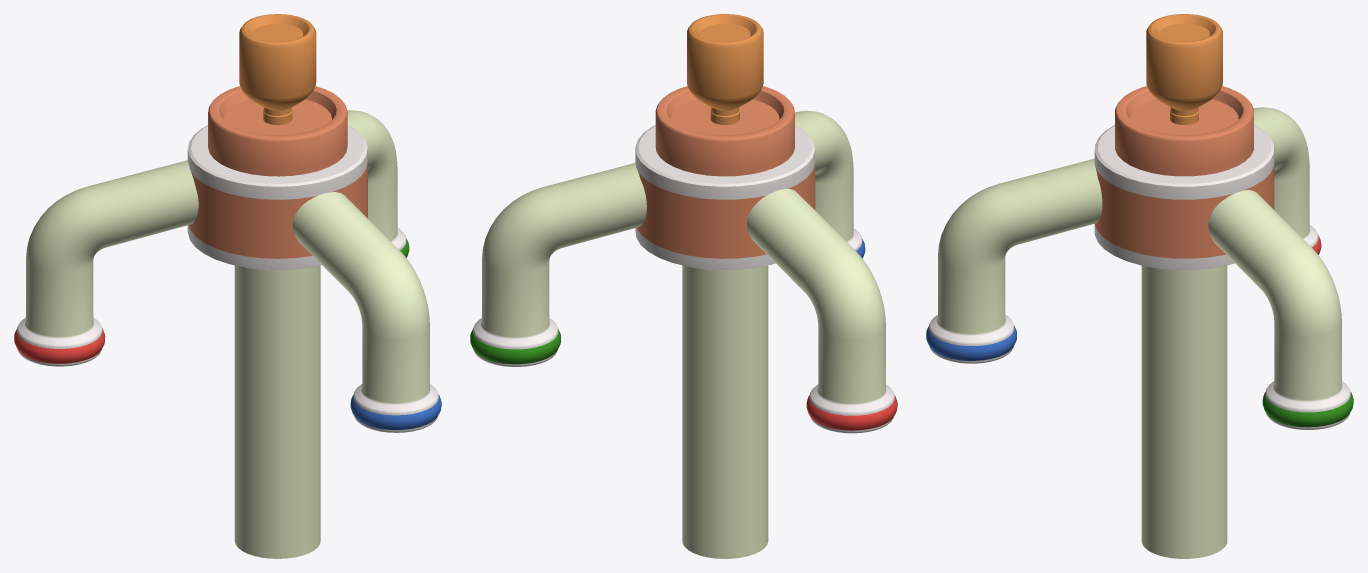
The model's file is voiNuoc.fbx.
The picture shows the model from 3 angles, left to right: view 1: azimuth 30°, elevation 25°; view 2: azimuth 150°, elevation 25°; view 3: azimuth 270°, elevation 25°; orthographic projection.
Visible parts, largest first — view 1: Cylinder.007; view 2: Cylinder.007; view 3: Cylinder.007.
Part boxes in pixels (left/top/right/bottom): Cylinder.007: left=14, top=14, right=441, bottom=558; Cylinder.007: left=470, top=14, right=897, bottom=558; Cylinder.007: left=926, top=14, right=1353, bottom=558.
Bounding box in the file's own units: 514 × 630 × 476.
